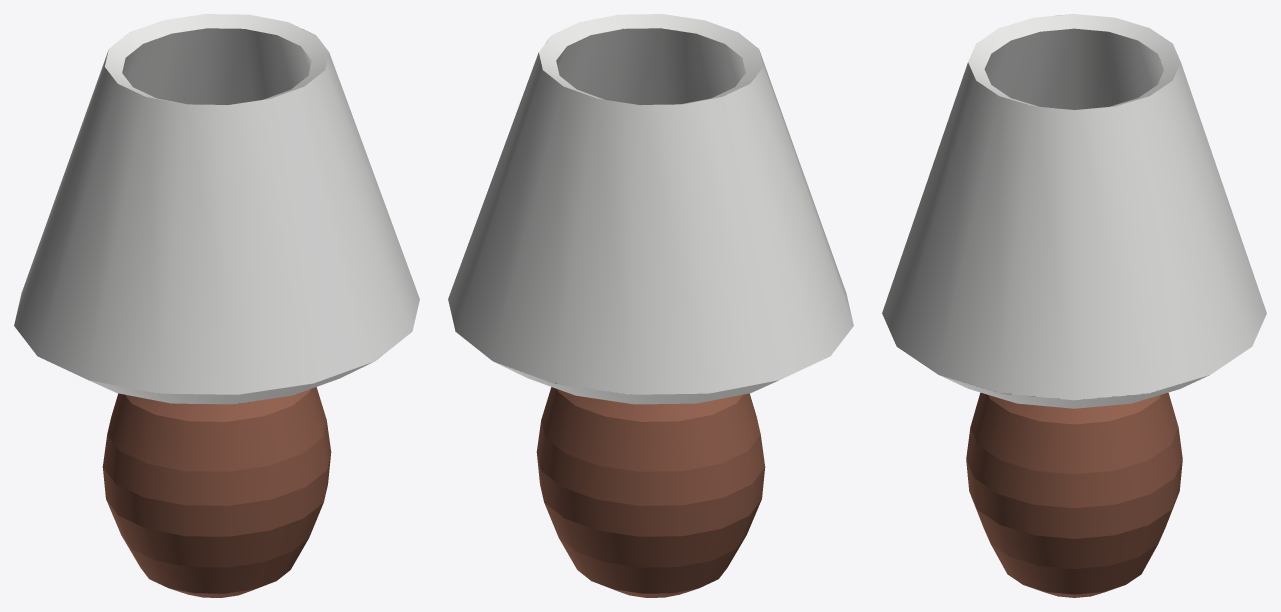
The model's file is Lampara.fbx.
The picture shows the model from 3 angles, left to right: view 1: azimuth 30°, elevation 25°; view 2: azimuth 150°, elevation 25°; view 3: azimuth 270°, elevation 25°; orthographic projection.
Visible parts, largest first — view 1: Lampara(mapeada)(texturizada); view 2: Lampara(mapeada)(texturizada); view 3: Lampara(mapeada)(texturizada).
Part boxes in pixels (x1,y1,x2,y2): Lampara(mapeada)(texturizada): (14, 14, 419, 597); Lampara(mapeada)(texturizada): (448, 14, 853, 597); Lampara(mapeada)(texturizada): (882, 14, 1266, 597).
Bounding box in the file's own units: 115 × 159 × 107.
